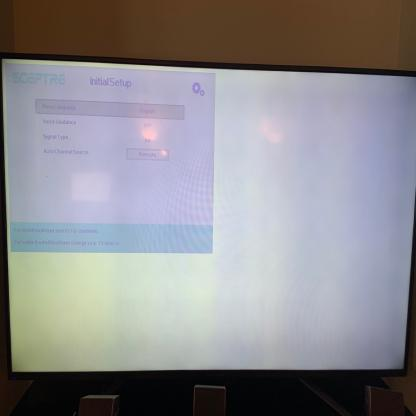fade: (3, 60, 412, 378)
